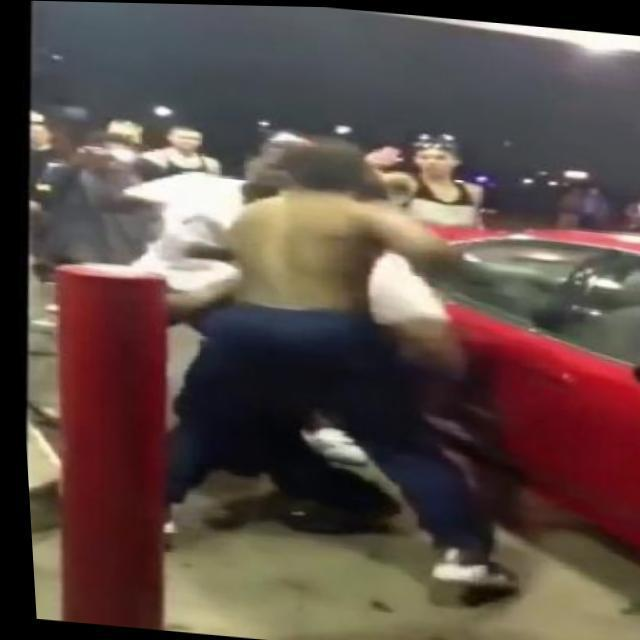fight: (97, 129, 536, 595)
